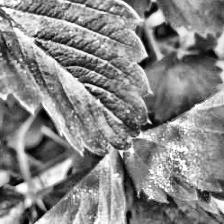Powdery Mildew Leaf: (118, 34, 224, 206), (0, 148, 128, 224)
